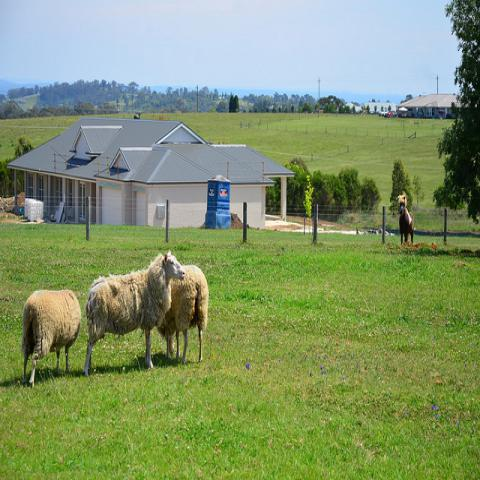car: (387, 110, 396, 118), (379, 109, 388, 116), (395, 111, 402, 118)
